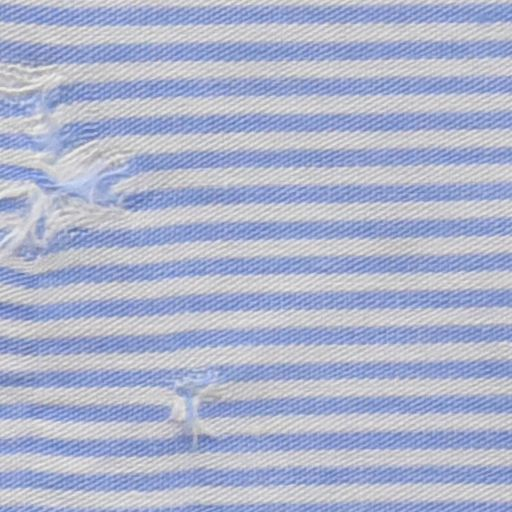defect: (1, 60, 137, 283), (155, 370, 225, 441)
